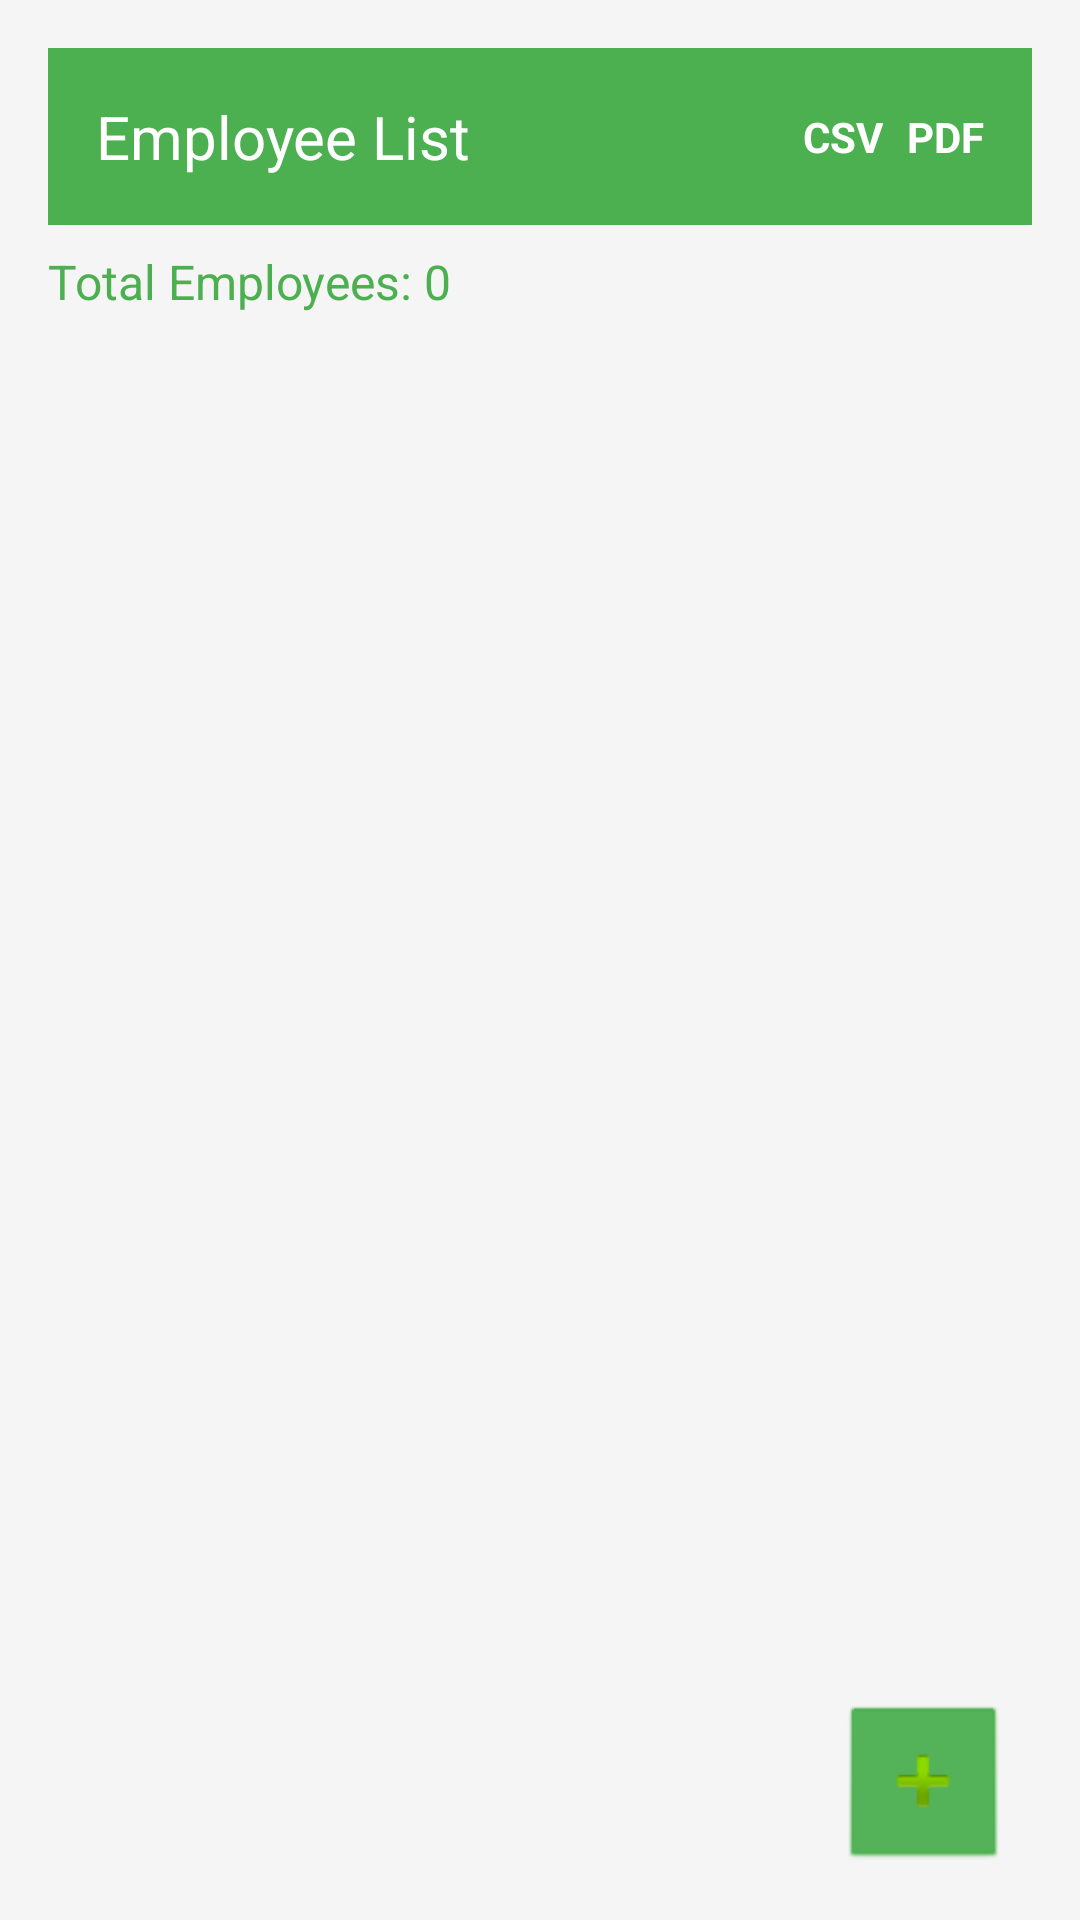

Point at icon controls on the screen. Image size 1080 x 1920, points as [x,y].
Add Employee: [923,1782]
